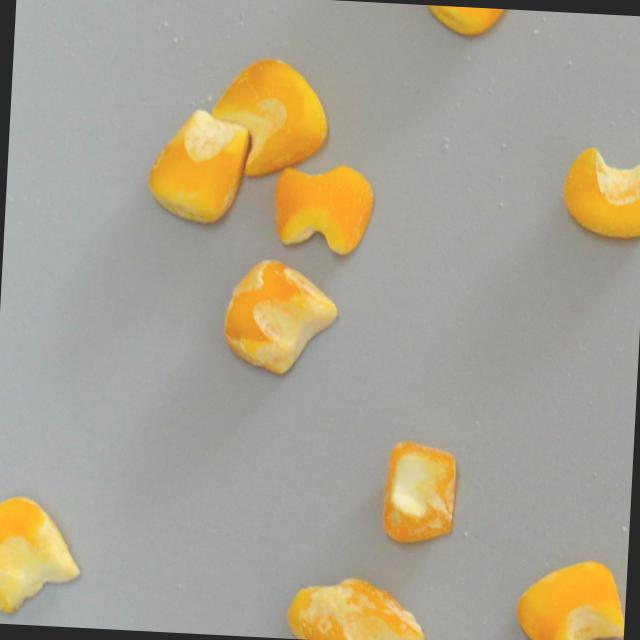dañado: (206, 49, 336, 183), (216, 250, 344, 385), (139, 103, 256, 228), (268, 160, 379, 263), (280, 568, 433, 640), (375, 433, 466, 550)
no_canjicado: (511, 553, 628, 640)
pelicula: (0, 492, 89, 622), (559, 140, 640, 243), (419, 5, 520, 42)
